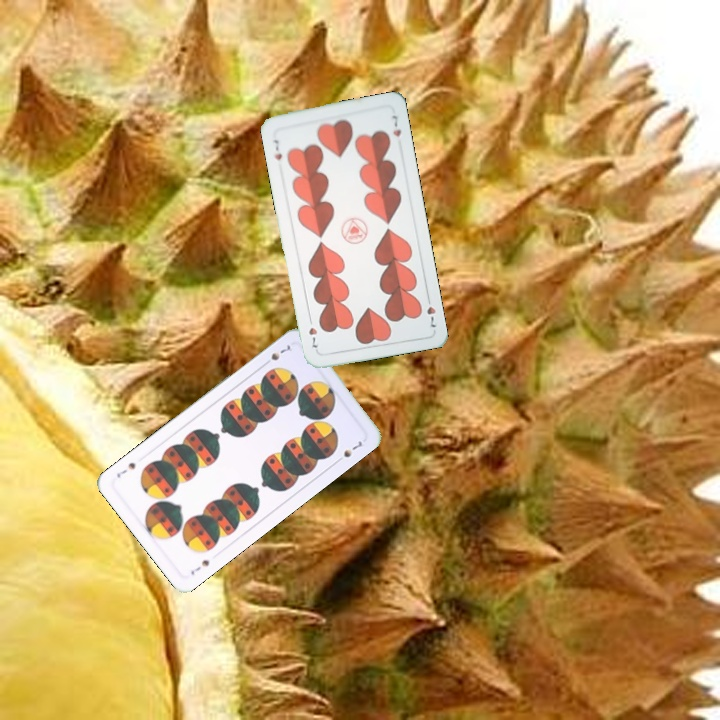H7: (423, 292, 439, 330), (270, 136, 285, 163)
S7: (259, 341, 293, 368), (187, 555, 212, 578)
